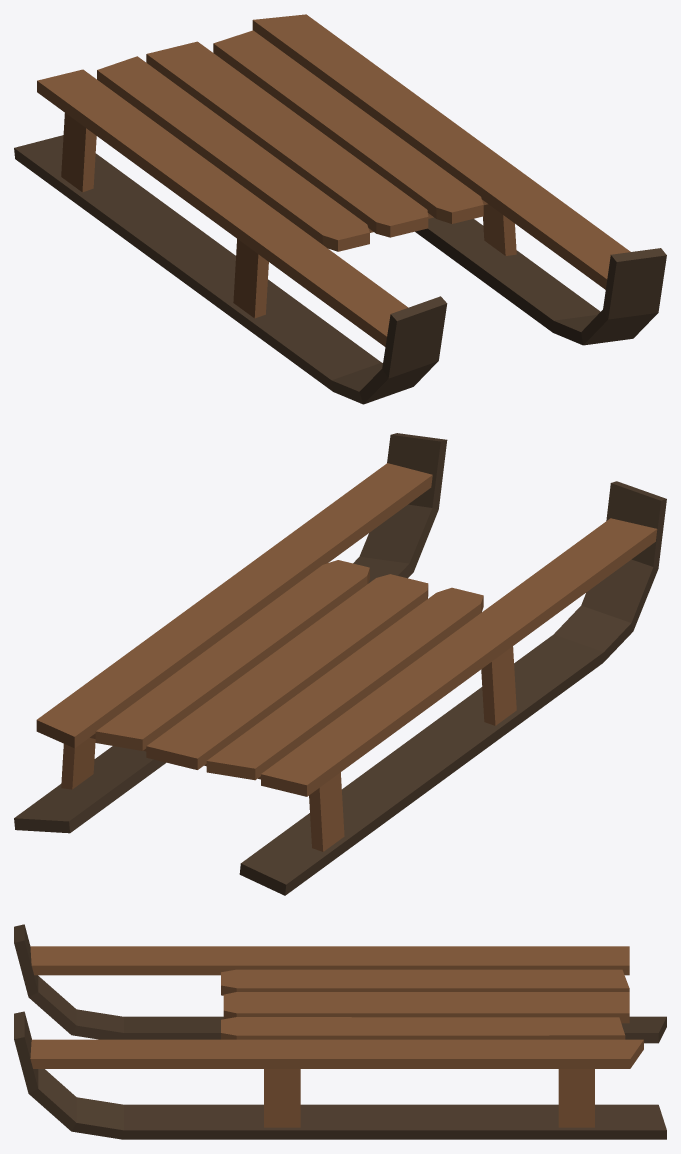
The model's file is vehicles_sledge.fbx.
3 renders of one model, top to bottom at view 1: azimuth 30°, elevation 25°; view 2: azimuth 150°, elevation 25°; view 3: azimuth 270°, elevation 25°, orthographic. The views are drawn at different scales.
Visible parts, largest first — view 1: vehicles_sledge; view 2: vehicles_sledge; view 3: vehicles_sledge.
Part boxes in pixels (<box>): vehicles_sledge: <box>14,14,666,404</box>; vehicles_sledge: <box>14,433,666,895</box>; vehicles_sledge: <box>14,924,666,1139</box>.
Bounding box in the file's own units: 82.32 × 36.32 × 200.
